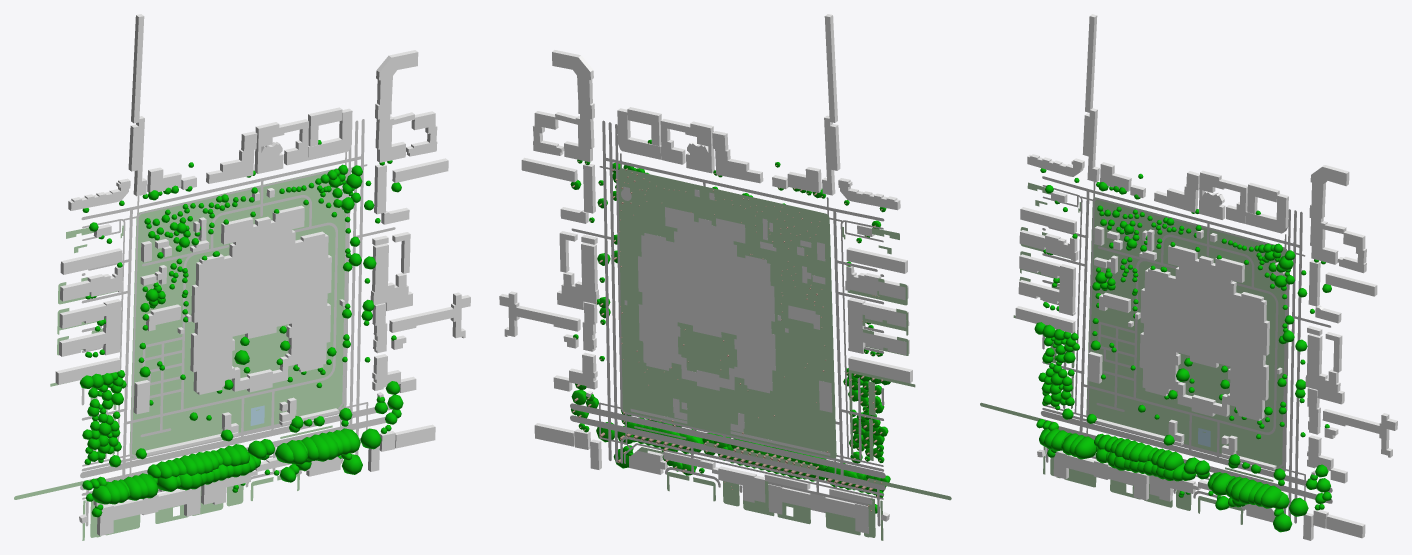
3 renders of one model, left to right at view 1: azimuth 30°, elevation 25°; view 2: azimuth 150°, elevation 25°; view 3: azimuth 330°, elevation 25°, orthographic. The views are drawn at different scales.
Parts seen in each view (by area): view 1: TPX_Buildings, TPX_GreenAreas, TPX_RoadsOutlines; view 2: TPX_Buildings, TPX_GreenAreas, TPX_RoadsOutlines; view 3: TPX_Buildings, TPX_GreenAreas, TPX_RoadsOutlines.
Boxes of the visible parts, x1,y1,x2,y2 form: TPX_Buildings: [55, 14, 470, 535]; TPX_GreenAreas: [14, 168, 347, 540]; TPX_RoadsOutlines: [80, 119, 395, 526]; TPX_Buildings: [499, 14, 912, 533]; TPX_GreenAreas: [618, 168, 951, 540]; TPX_RoadsOutlines: [570, 120, 885, 526]; TPX_Buildings: [1015, 14, 1397, 540]; TPX_GreenAreas: [980, 182, 1286, 524]; TPX_RoadsOutlines: [1041, 176, 1332, 523].
Size of the model in its own units: 534 by 579 by 39.61.
